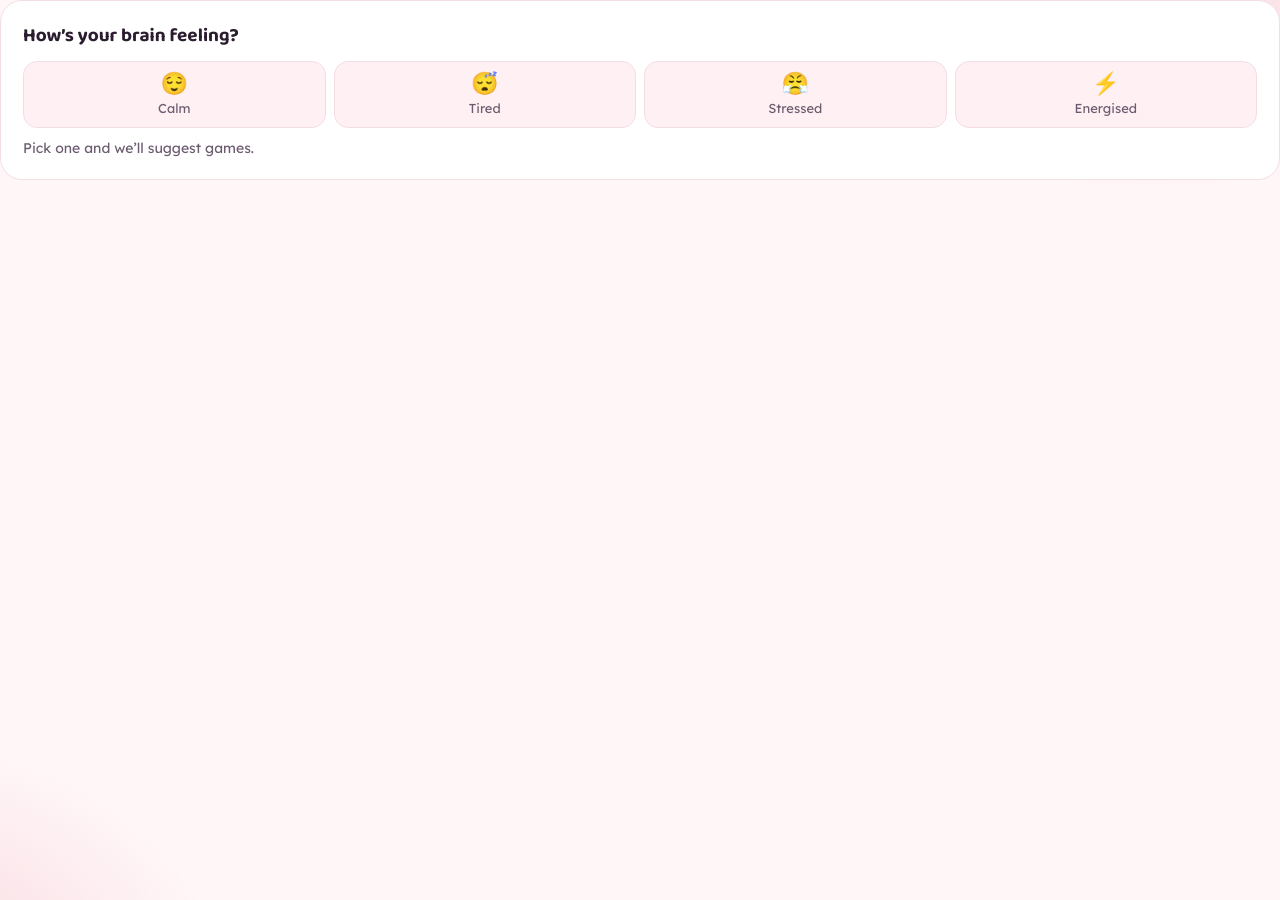
MoodCheck › suggests the copy.json games and message for Tired
Click the button "😴 Tired": (485, 94) [334,61,636,128]
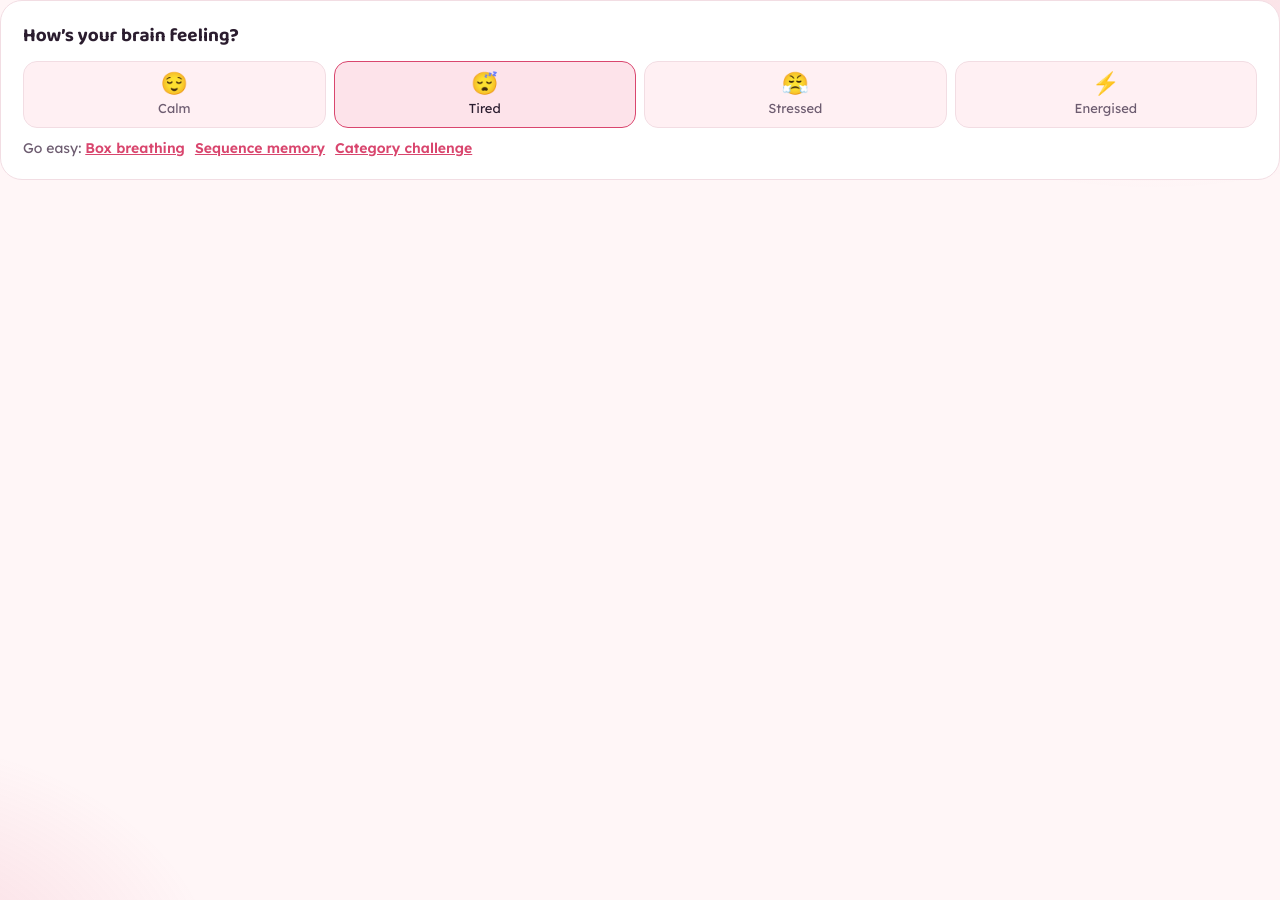
Now the links read "Box breathing", "Sequence memory", "Category challenge", in this order, box [85,138,185,156]; [195,138,325,156]; [335,138,472,156]
Now the text "Pick one" is gone
Now the text "Go easy:" is shown, box [23,138,85,156]
